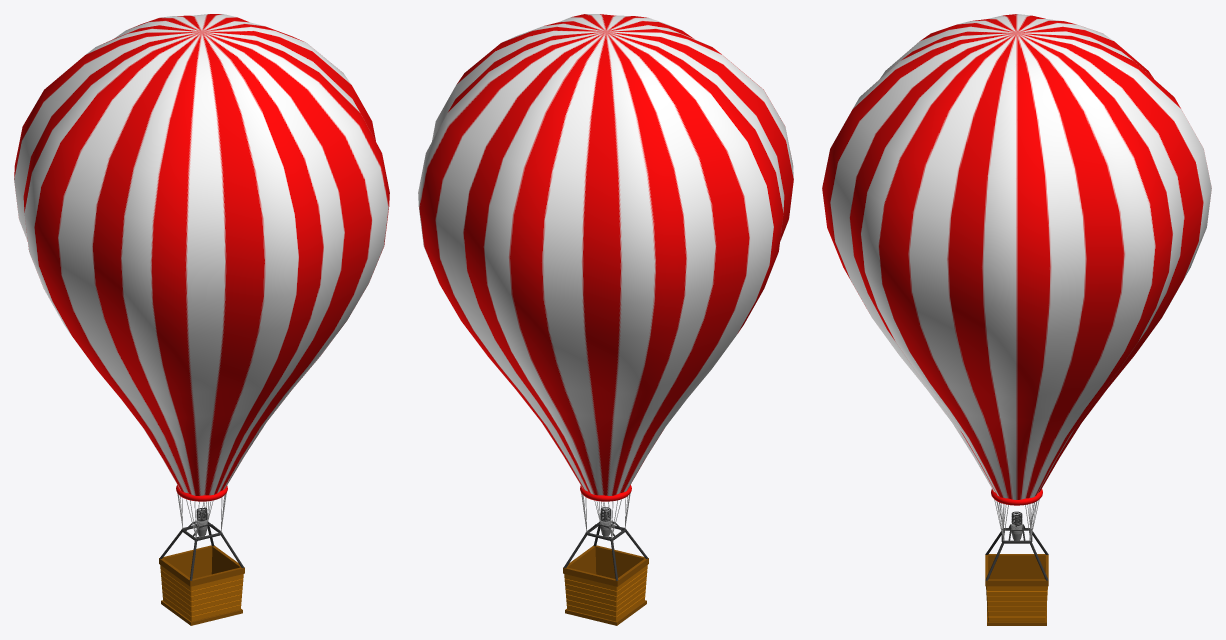
3 views of the same model, side by side, from view 1: azimuth 30°, elevation 25°; view 2: azimuth 150°, elevation 25°; view 3: azimuth 270°, elevation 25° (orthographic).
Parts seen in each view (by area): view 1: V1_HotAirBalloon_Envelope_1, V1_HotAirBalloon_Basket_1; view 2: V1_HotAirBalloon_Envelope_1, V1_HotAirBalloon_Basket_1; view 3: V1_HotAirBalloon_Envelope_1, V1_HotAirBalloon_Basket_1, V1_HotAirBalloon_Cables_1.
Boxes of the visible parts, x1,y1,x2,y2 form: V1_HotAirBalloon_Envelope_1: (14,14,389,501); V1_HotAirBalloon_Basket_1: (159,525,244,625); V1_HotAirBalloon_Envelope_1: (418,14,793,501); V1_HotAirBalloon_Basket_1: (563,525,648,625); V1_HotAirBalloon_Envelope_1: (822,14,1211,505); V1_HotAirBalloon_Basket_1: (985,528,1048,625); V1_HotAirBalloon_Cables_1: (994,499,1039,540).
Bounding box in the file's own units: 12.29 × 20.19 × 12.29.
Materials: 2 (2 with a texture image).
